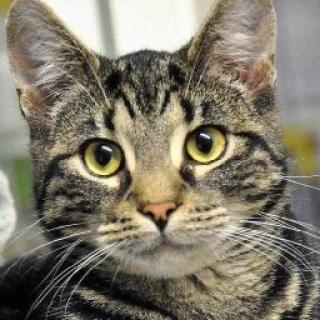cat: (11, 0, 285, 281)
nose: (132, 169, 190, 233)
